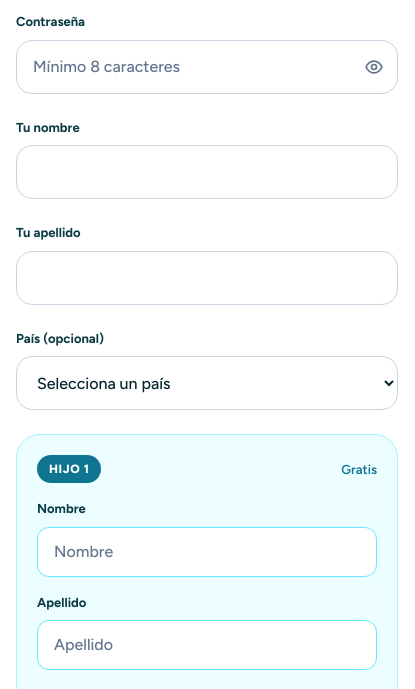
Test: AccountSignupForm › form — phone design › shows the state selector once a country with states is chosen
(page scrolled)
Expected: the field labelled "Estado" is not shown
Select "México" in the dropdown labelled "País (opcional)". click: (207, 383)
box: [16,356,398,410]
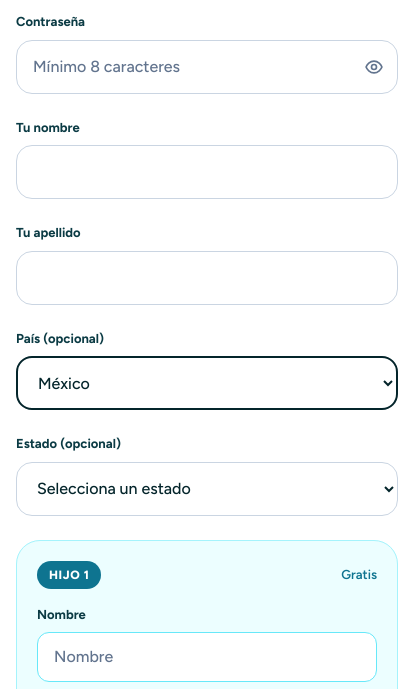
Result: the dropdown labelled "Estado (opcional)" is shown at [16,462,398,516]
